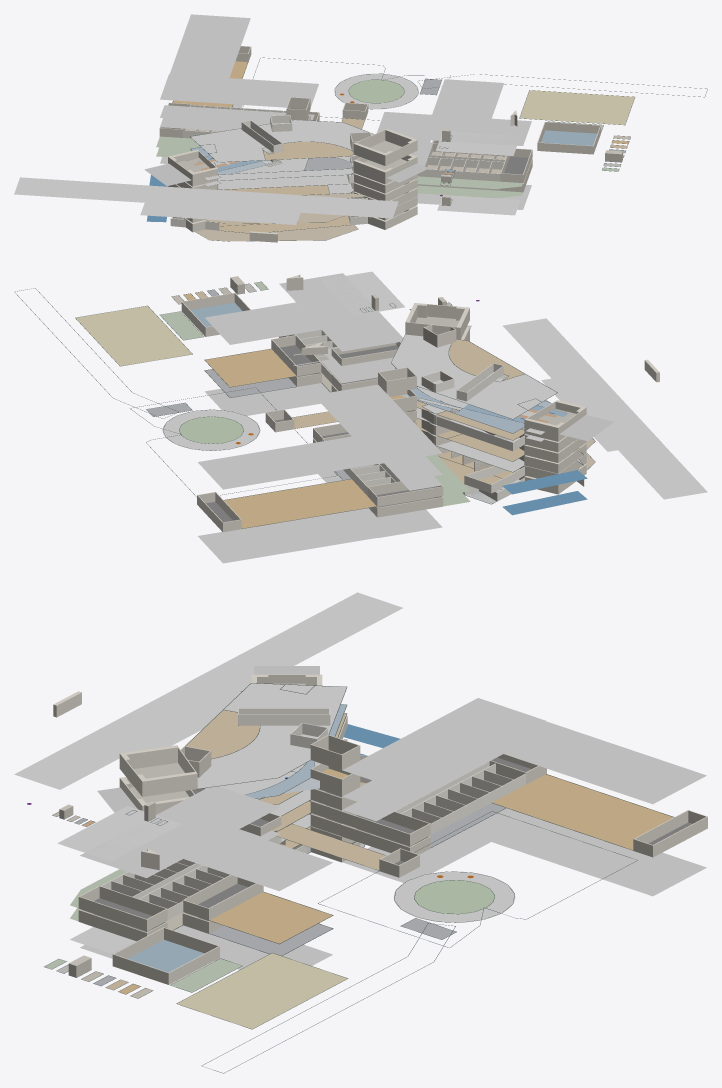
File: interior.glb
3 renders of one model, top to bottom at view 1: azimuth 30°, elevation 25°; view 2: azimuth 150°, elevation 25°; view 3: azimuth 270°, elevation 25°, orthographic. The views are drawn at different scales.
Visible parts, largest first — view 1: 6F|floor, 2F|floor, 4F|floor, B2|floor, 3F|floor, 2F|wall, PL|floor, 6F|wall, 2F|prtn, 1F|floor, PL|wall, 2F|line (+6 smaller); view 2: 6F|floor, 2F|floor, 4F|floor, B2|floor, 2F|wall, 1F|floor, PL|floor, 6F|wall, PL|wall, 1F|wall, 3F|floor, 2F|line (+8 smaller); view 3: 6F|floor, 2F|floor, 4F|floor, B2|floor, 2F|wall, 2F|prtn, 6F|wall, 1F|floor, 3F|floor, PL|floor, 2F|line, 1F|wall (+3 smaller).
Part boxes in pixels (bbox=[...]): 6F|floor: bbox=[160, 14, 531, 162]; 2F|floor: bbox=[156, 61, 634, 197]; 4F|floor: bbox=[14, 105, 430, 218]; B2|floor: bbox=[146, 104, 531, 241]; 3F|floor: bbox=[140, 118, 433, 224]; 2F|wall: bbox=[159, 46, 600, 200]; PL|floor: bbox=[144, 147, 454, 196]; 6F|wall: bbox=[286, 97, 517, 165]; 2F|prtn: bbox=[182, 105, 506, 181]; 1F|floor: bbox=[149, 147, 522, 223]; PL|wall: bbox=[168, 115, 417, 180]; 2F|line: bbox=[172, 57, 707, 198]; 6F|floor: bbox=[198, 271, 556, 489]; 2F|floor: bbox=[76, 282, 582, 528]; 4F|floor: bbox=[294, 318, 707, 499]; B2|floor: bbox=[198, 383, 594, 563]; 2F|wall: bbox=[181, 293, 586, 532]; 1F|floor: bbox=[205, 336, 594, 507]; PL|floor: bbox=[338, 300, 613, 441]; 6F|wall: bbox=[286, 274, 469, 393]; PL|wall: bbox=[331, 327, 586, 434]; 1F|wall: bbox=[279, 335, 586, 517]; 3F|floor: bbox=[293, 359, 661, 490]; 2F|line: bbox=[14, 281, 583, 528]; 6F|floor: bbox=[57, 683, 706, 891]; 2F|floor: bbox=[44, 740, 692, 1028]; 4F|floor: bbox=[14, 592, 406, 840]; B2|floor: bbox=[70, 753, 706, 969]; 2F|wall: bbox=[78, 754, 707, 984]; 2F|prtn: bbox=[101, 761, 525, 919]; 6F|wall: bbox=[119, 735, 360, 870]; 1F|floor: bbox=[70, 724, 505, 955]; 3F|floor: bbox=[133, 696, 502, 821]; PL|floor: bbox=[27, 666, 348, 826]; 2F|line: bbox=[44, 739, 674, 1073]; 1F|wall: bbox=[78, 813, 430, 941].
Bounding box in the file's own units: 266 × 29.24 × 171.
